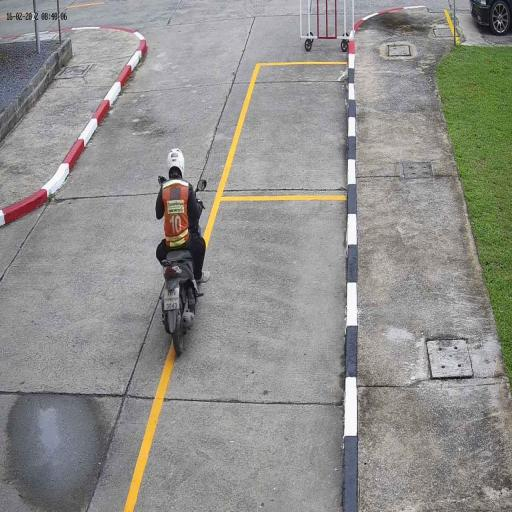motorcycle: (158, 248, 204, 360)
